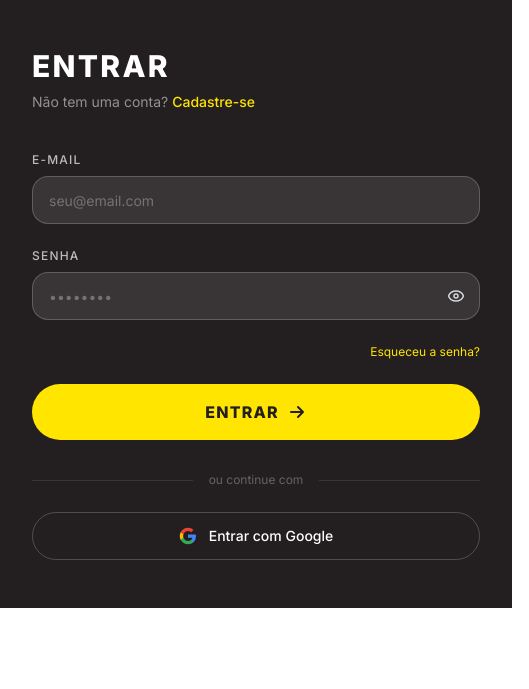
it: AuthLoginForm › normalizes the email and explains how a Google-created account can recover access
Type "  CONTA@EXAMPLE.COM " into the field labelled "E-mail" at (256, 200), box [32,176,480,224]
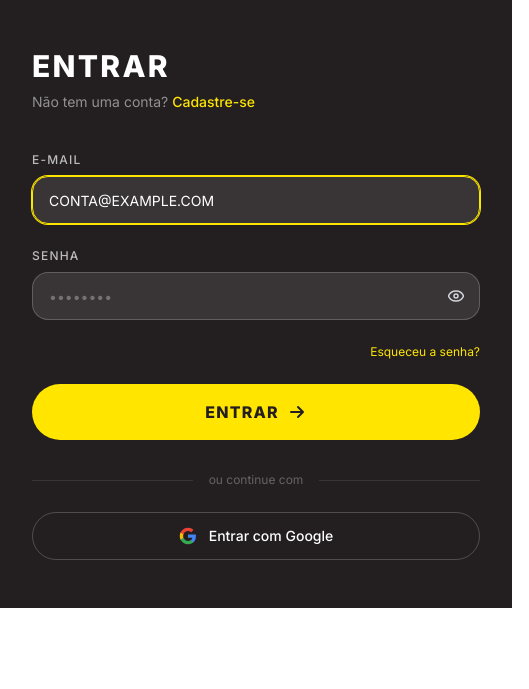
Type "senha-incorreta" into the password field labelled "Senha" at (256, 296), box [32,272,480,320]
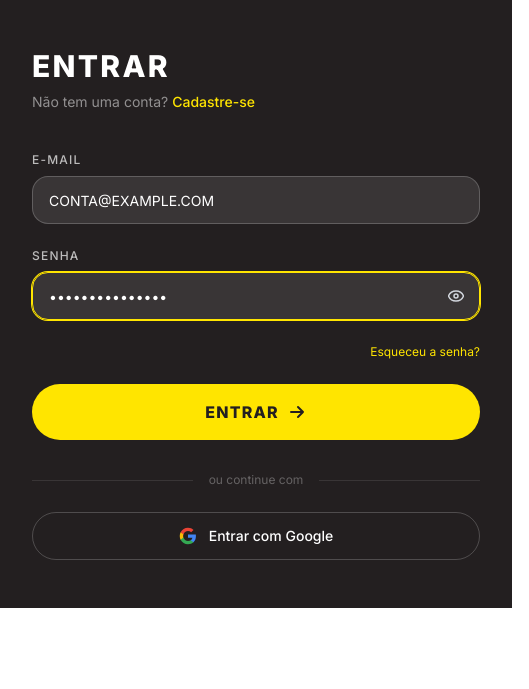
Click the button "Entrar" at (256, 412), box [32,384,480,440]
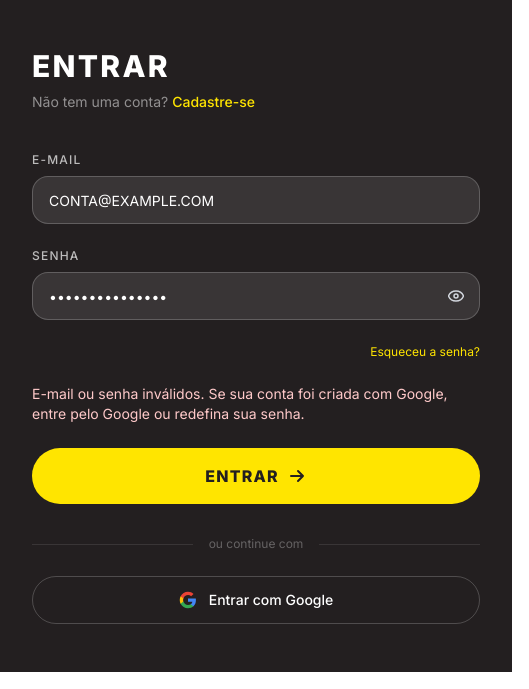
Now the text "E-mail ou senha inválidos. Se sua conta foi criada com Google, entre pelo Google ou redefina sua senha." is shown, box [32,385,448,422]
